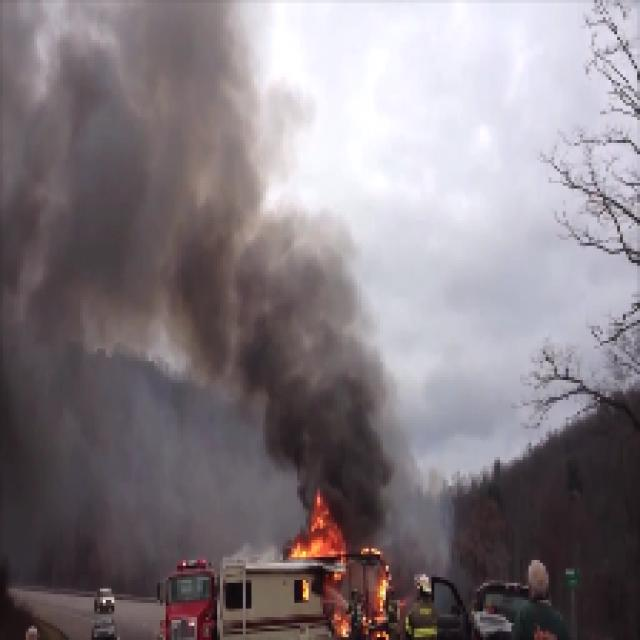fire: (277, 513, 346, 565)
smoke: (70, 57, 224, 328), (254, 266, 354, 478)
